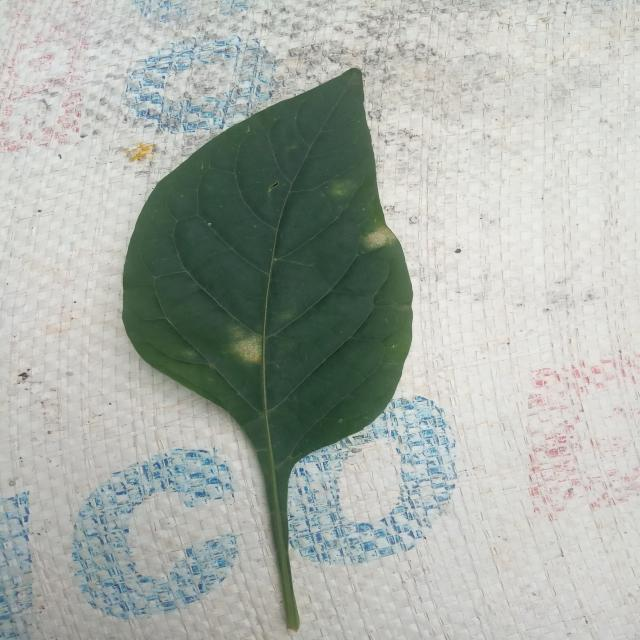ganike: (123, 69, 412, 630)
